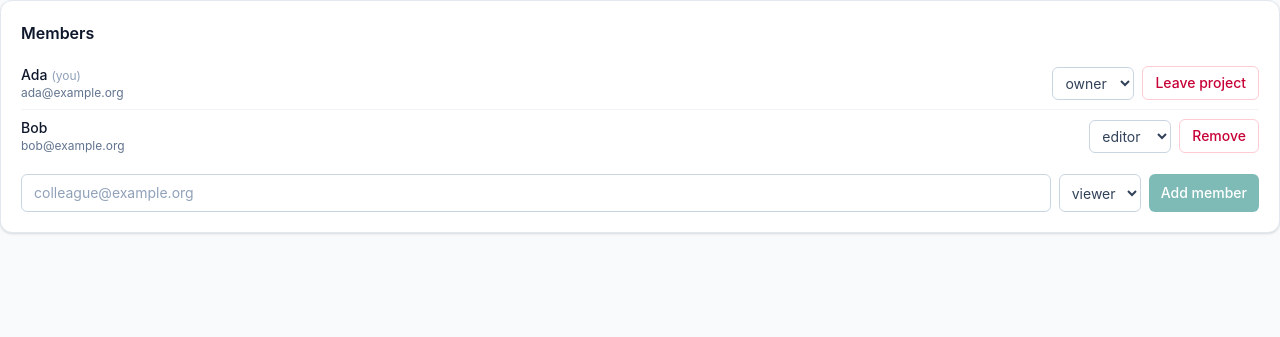
Test case: MembersCard › shows the server refusal when the last owner would be demoted
The width and height of the screenshot is (1280, 337).
Step 1. Select "viewer" in the dropdown named "Role for ada@example.org" in the row of "(you)" → (1093,83), box [1052,66,1134,100]
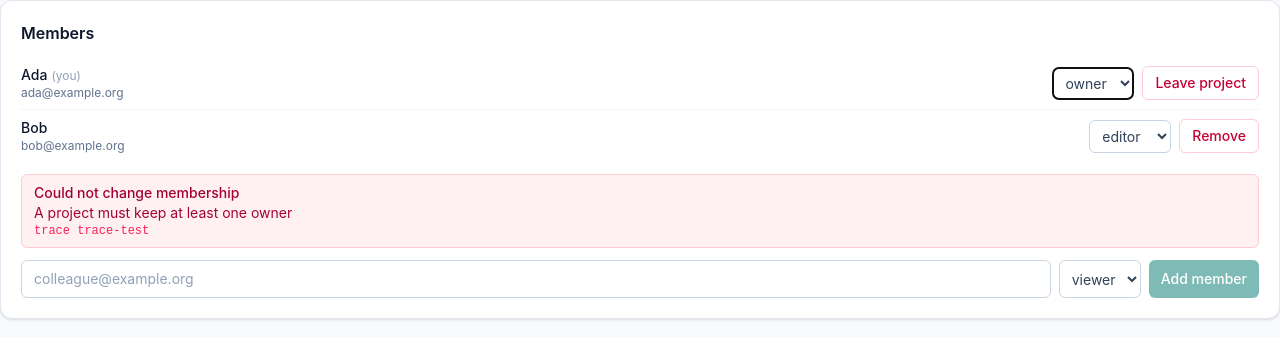
Check: the message shows "A project must keep at least one owner", box [34,204,292,221]
